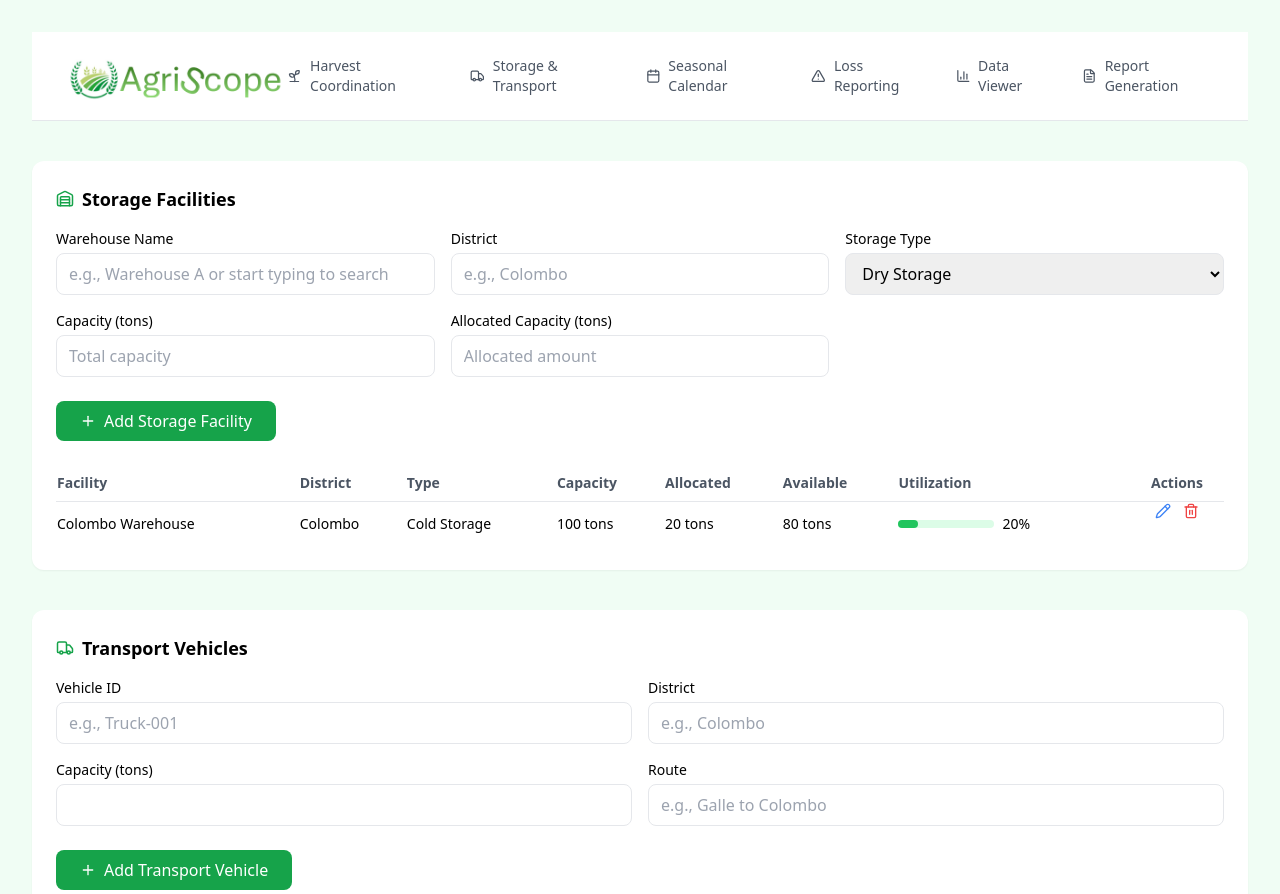
Test case: StorageTransport Component › adds a new storage facility successfully
# Fill Name (using placeholder as it's unique and working)
Type "Kandy Store" into the field with placeholder "e.g., Warehouse A or start typing to search".
click(245, 274); type("Kandy Store")  # box x1=56 y1=253 x2=435 y2=295
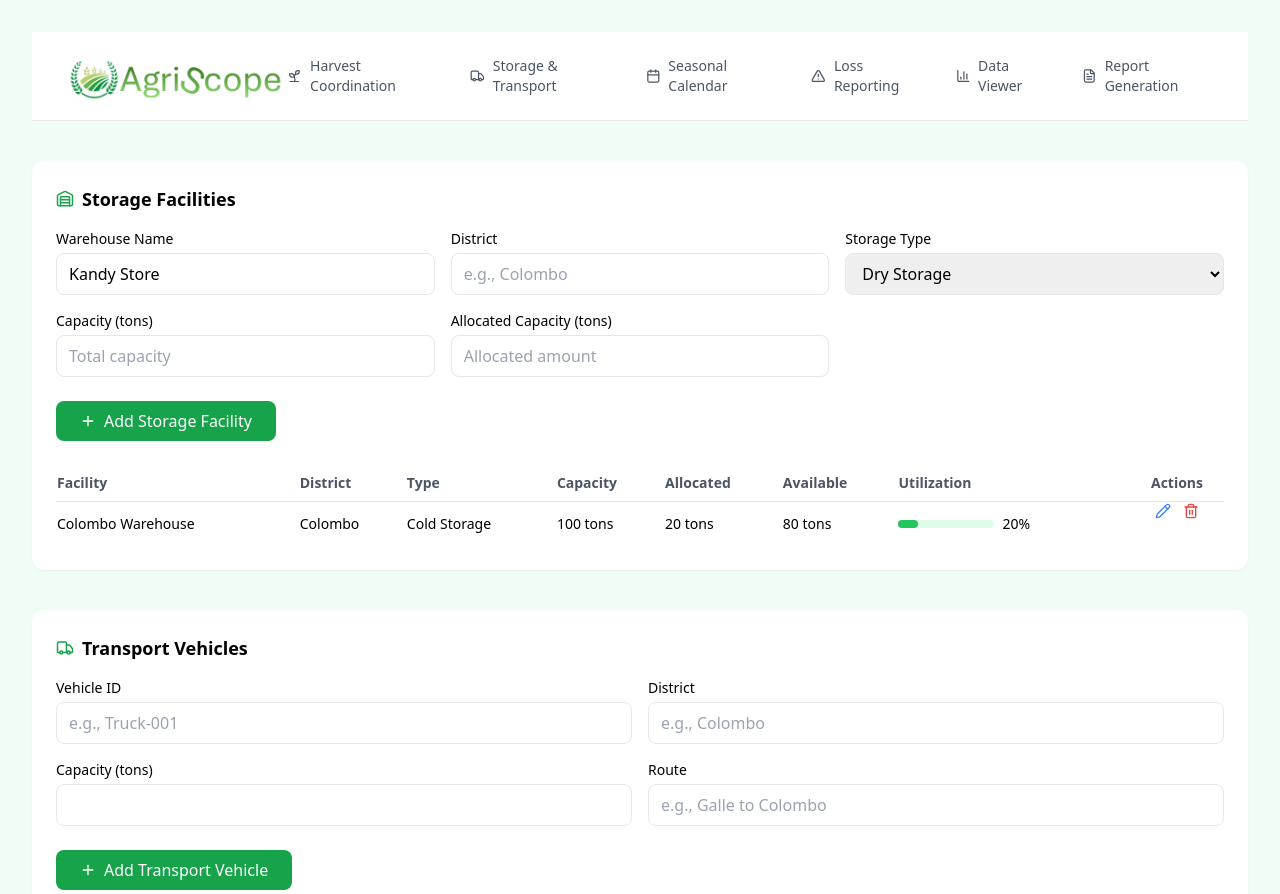
# Fill District - Find by name attribute
Type "Kandy" into the field named "district".
click(640, 274); type("Kandy")  # box x1=451 y1=253 x2=829 y2=295
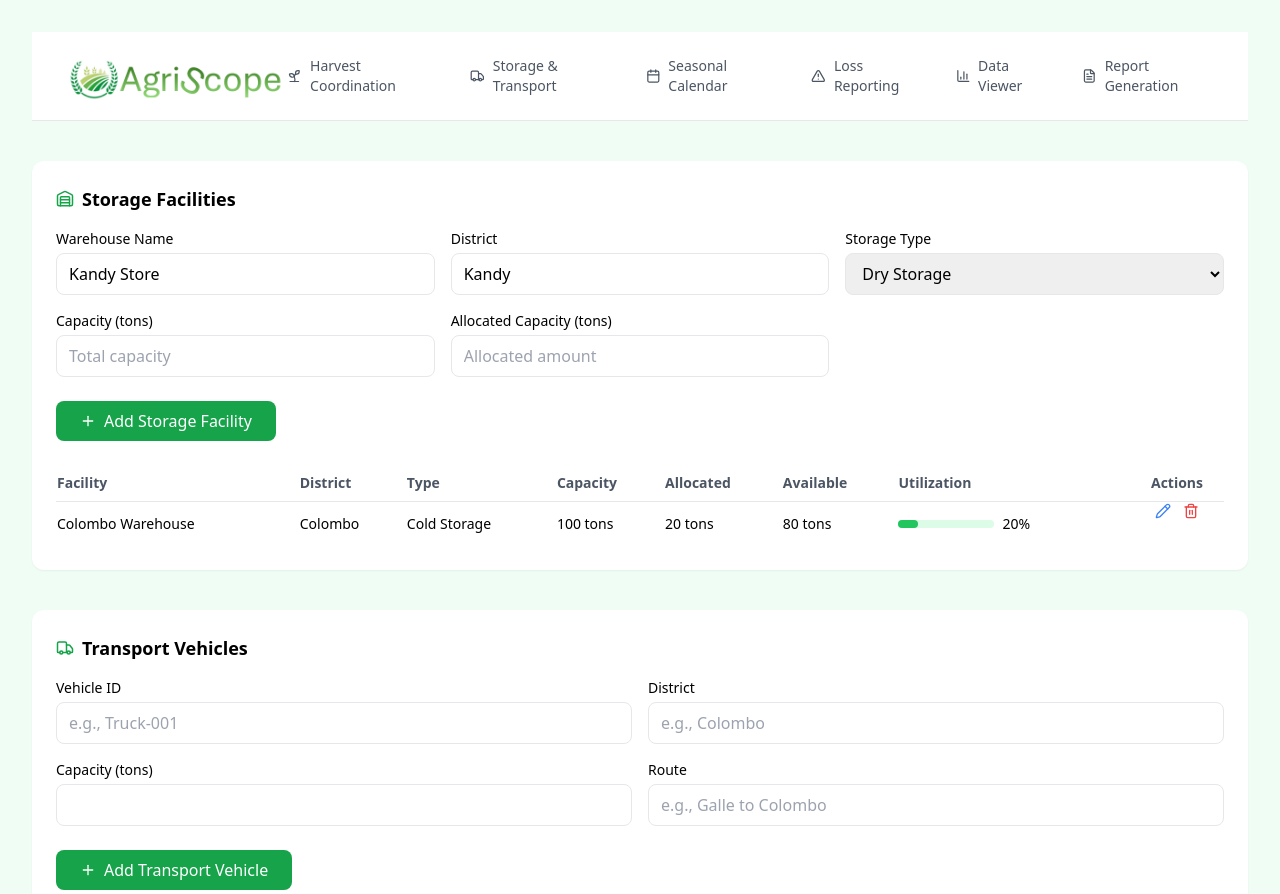
# Fill Capacity - Find by name attribute
Type "50" into the number field named "capacity".
click(245, 356); type("50")  # box x1=56 y1=335 x2=435 y2=377
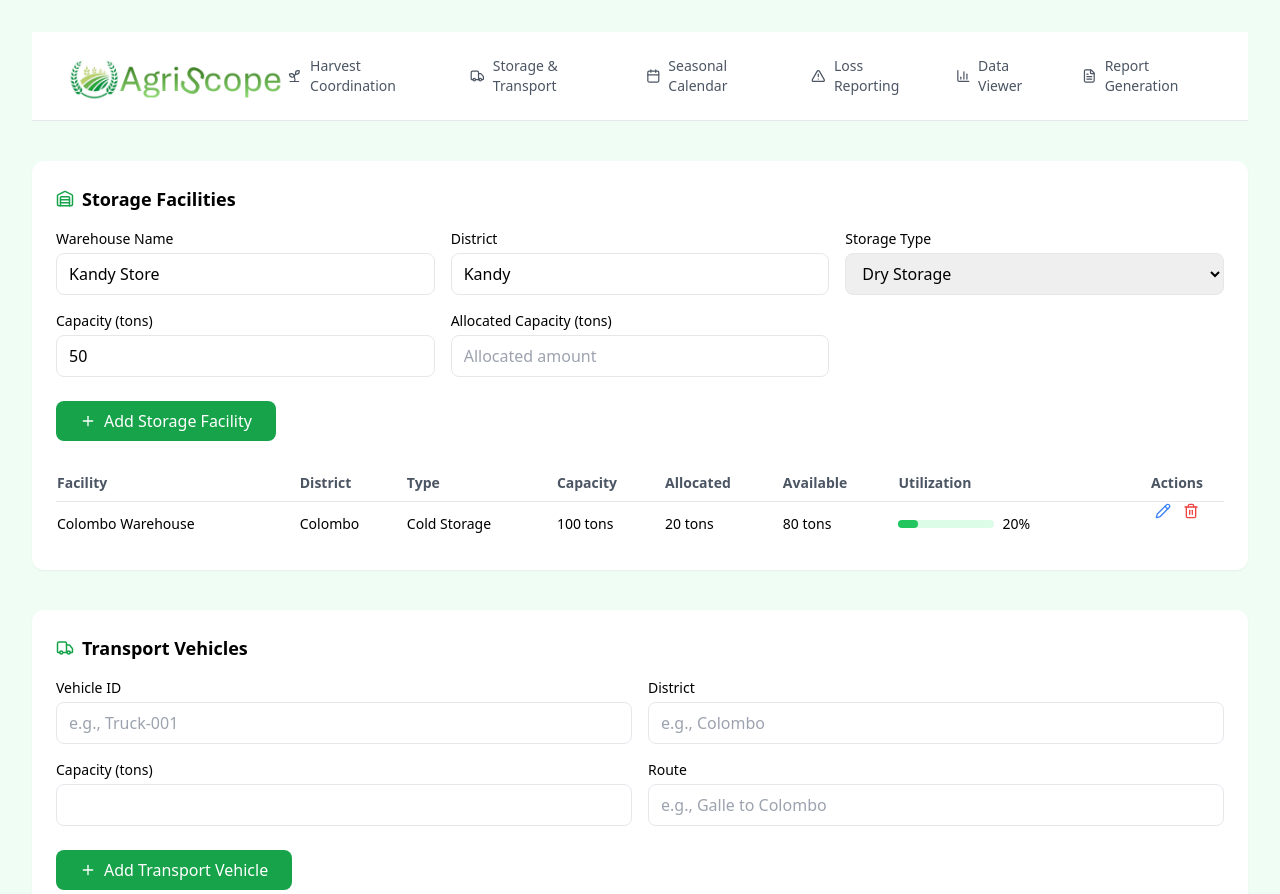
Click the button "Add Storage Facility".
click(166, 421)  # box x1=56 y1=401 x2=276 y2=441
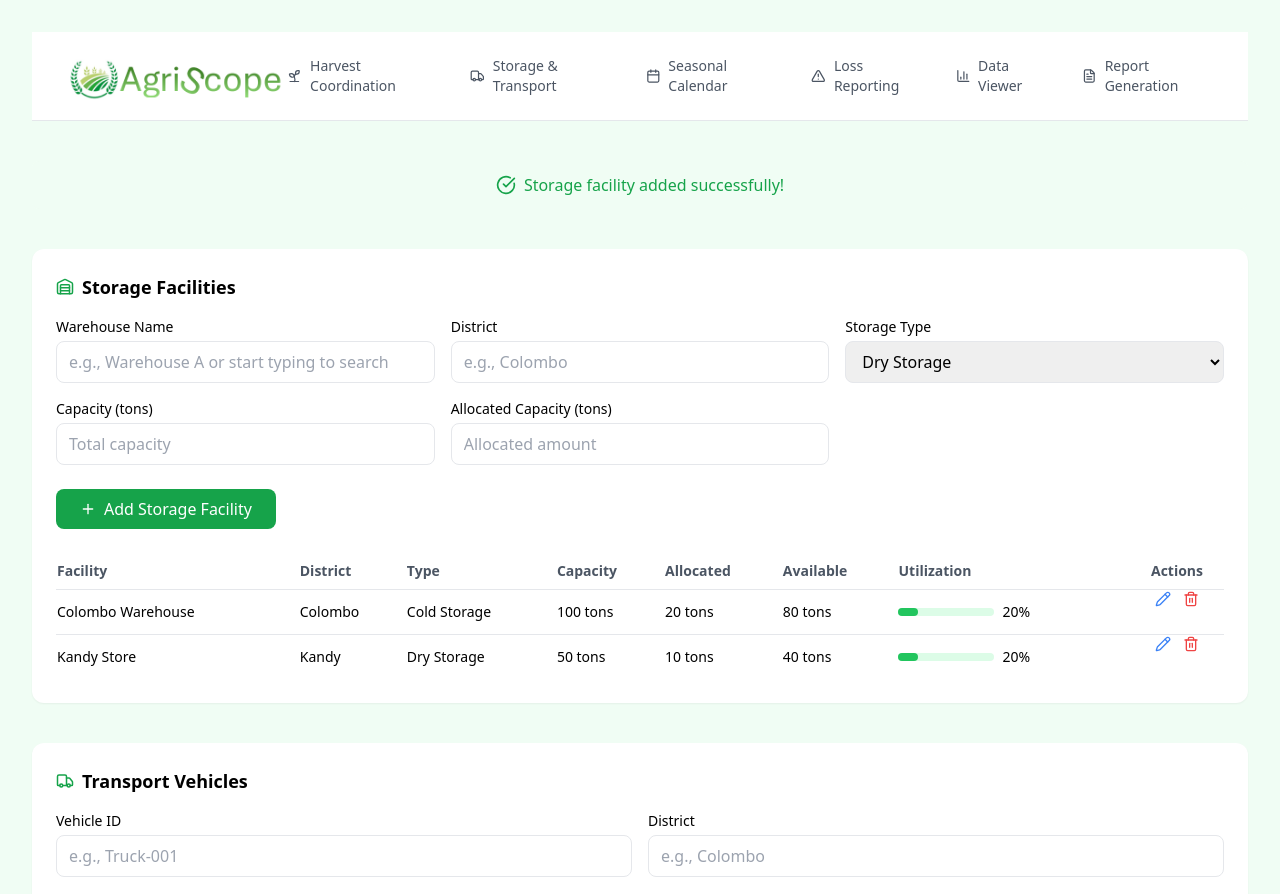
Expected: the text "Kandy Store" is shown, x1=56 y1=634 x2=299 y2=679
Expected: the text "Storage facility added successfully!" is shown, x1=32 y1=161 x2=1248 y2=209
